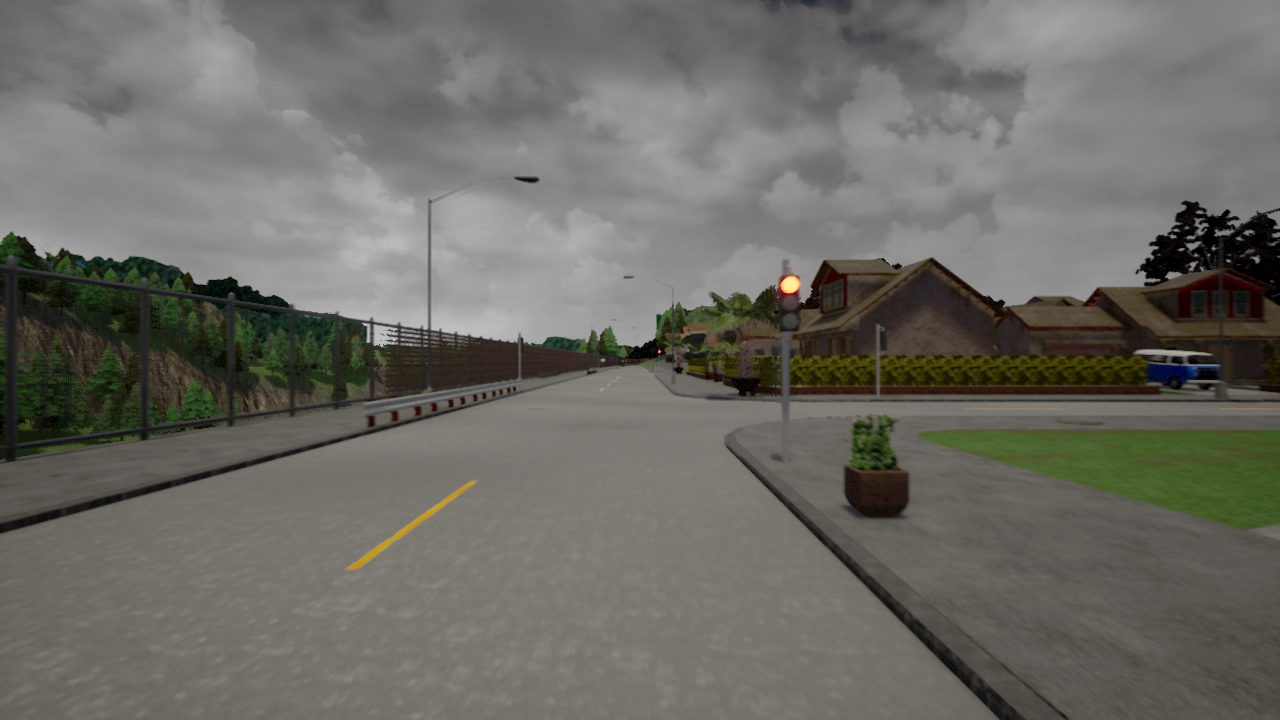red: (778, 273, 803, 332)
